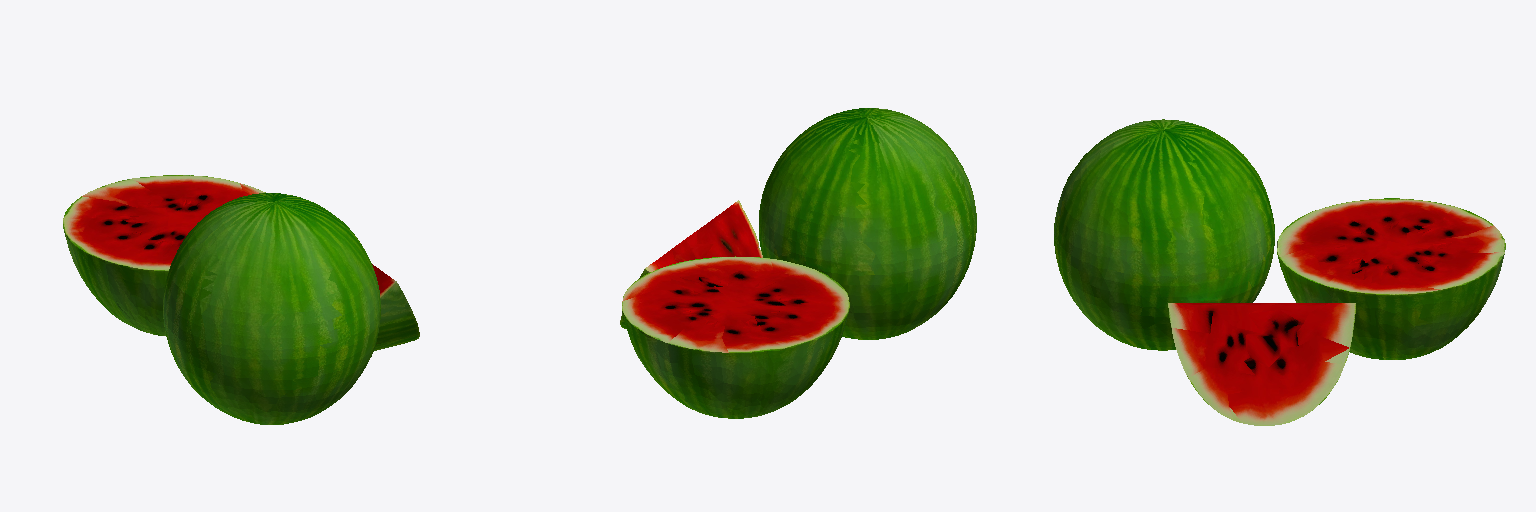
The picture shows the model from 3 angles: view 1: azimuth 30°, elevation 25°; view 2: azimuth 150°, elevation 25°; view 3: azimuth 270°, elevation 25°; orthographic projection.
Visible parts, largest first — view 1: tripo_node_23a24c3d-ed94-49bb-9dd4-391a[number redacted]; view 2: tripo_node_23a24c3d-ed94-49bb-9dd4-391a[number redacted]; view 3: tripo_node_23a24c3d-ed94-49bb-9dd4-391a[number redacted].
Part boxes in pixels (bbox=[...]): tripo_node_23a24c3d-ed94-49bb-9dd4-391a[number redacted]: bbox=[63, 175, 419, 424]; tripo_node_23a24c3d-ed94-49bb-9dd4-391a[number redacted]: bbox=[620, 108, 976, 418]; tripo_node_23a24c3d-ed94-49bb-9dd4-391a[number redacted]: bbox=[1054, 119, 1505, 425].
Size of the model in its own units: 0.6979 by 0.5193 by 1.
1 materials, 1 textured.